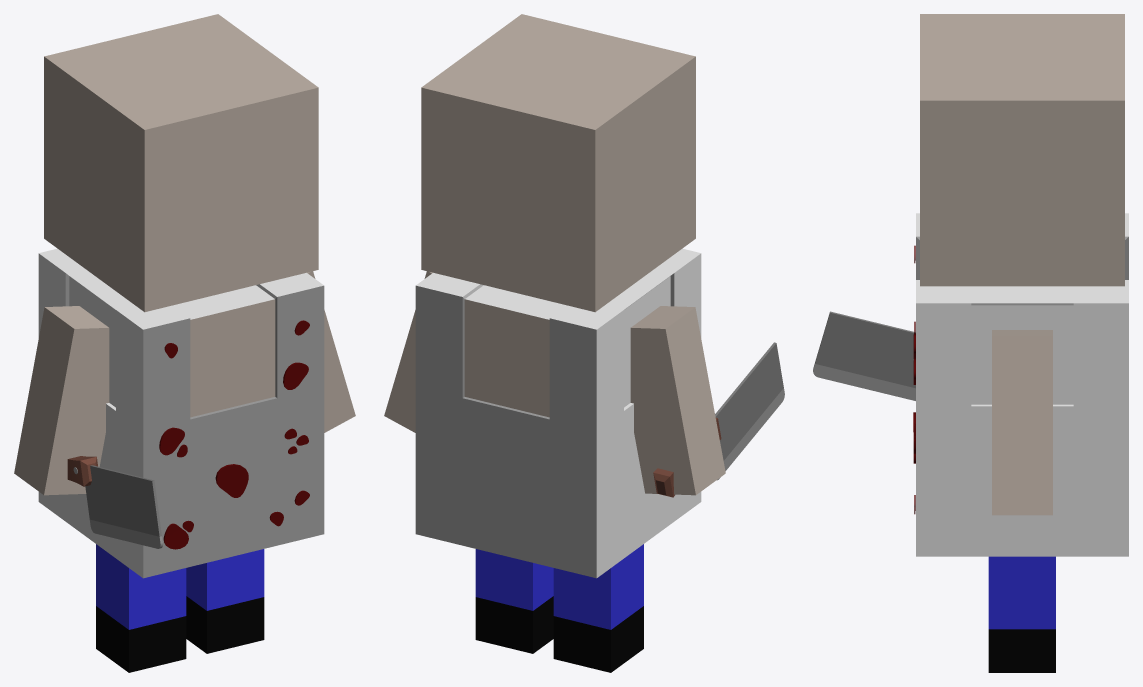
Rendered from Macellaio.fbx.
3 renders of one model, left to right at view 1: azimuth 30°, elevation 25°; view 2: azimuth 150°, elevation 25°; view 3: azimuth 270°, elevation 25°, orthographic.
Visible parts, largest first — view 1: Testa_Macellaio, Busto_Macellaio, Braccio_Destro_Macellaio, Piede_Destro_Macellaio, Piede_Sinistro_Macellaio, Mannaia_Macellaio, Braccio_Sinistro_Macellaio, pCylinder34, Sangue_Macellaio, pCylinder39; view 2: Testa_Macellaio, Busto_Macellaio, Braccio_Destro_Macellaio, Piede_Destro_Macellaio, Piede_Sinistro_Macellaio, Mannaia_Macellaio, Braccio_Sinistro_Macellaio; view 3: Testa_Macellaio, Busto_Macellaio, Braccio_Sinistro_Macellaio, Piede_Sinistro_Macellaio, Mannaia_Macellaio.
Part boxes in pixels (bbox=[...]): Testa_Macellaio: bbox=[44, 14, 318, 312]; Busto_Macellaio: bbox=[38, 248, 324, 578]; Braccio_Destro_Macellaio: bbox=[14, 306, 109, 495]; Piede_Destro_Macellaio: bbox=[96, 544, 186, 672]; Piede_Sinistro_Macellaio: bbox=[186, 549, 264, 653]; Mannaia_Macellaio: bbox=[67, 456, 162, 548]; Braccio_Sinistro_Macellaio: bbox=[307, 271, 355, 432]; pCylinder34: bbox=[215, 464, 248, 497]; Sangue_Macellaio: bbox=[159, 427, 184, 455]; pCylinder39: bbox=[283, 362, 308, 389]; Testa_Macellaio: bbox=[421, 14, 695, 312]; Busto_Macellaio: bbox=[415, 248, 701, 578]; Braccio_Destro_Macellaio: bbox=[630, 306, 725, 495]; Piede_Destro_Macellaio: bbox=[553, 544, 643, 672]; Piede_Sinistro_Macellaio: bbox=[475, 549, 553, 653]; Mannaia_Macellaio: bbox=[653, 342, 784, 497]; Braccio_Sinistro_Macellaio: bbox=[384, 271, 432, 432]; Testa_Macellaio: bbox=[920, 14, 1124, 286]; Busto_Macellaio: bbox=[916, 213, 1128, 556]; Braccio_Sinistro_Macellaio: bbox=[992, 330, 1052, 515]; Piede_Sinistro_Macellaio: bbox=[988, 556, 1055, 672]; Mannaia_Macellaio: bbox=[813, 311, 915, 400].
Bounding box in the file's own units: 1.79 × 3.14 × 1.54.
